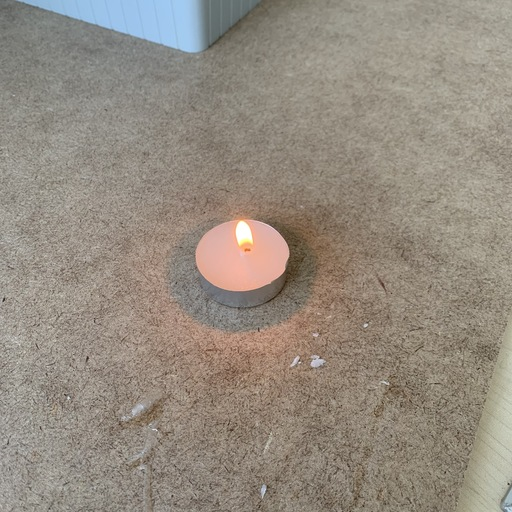fire: (225, 215, 258, 255)
